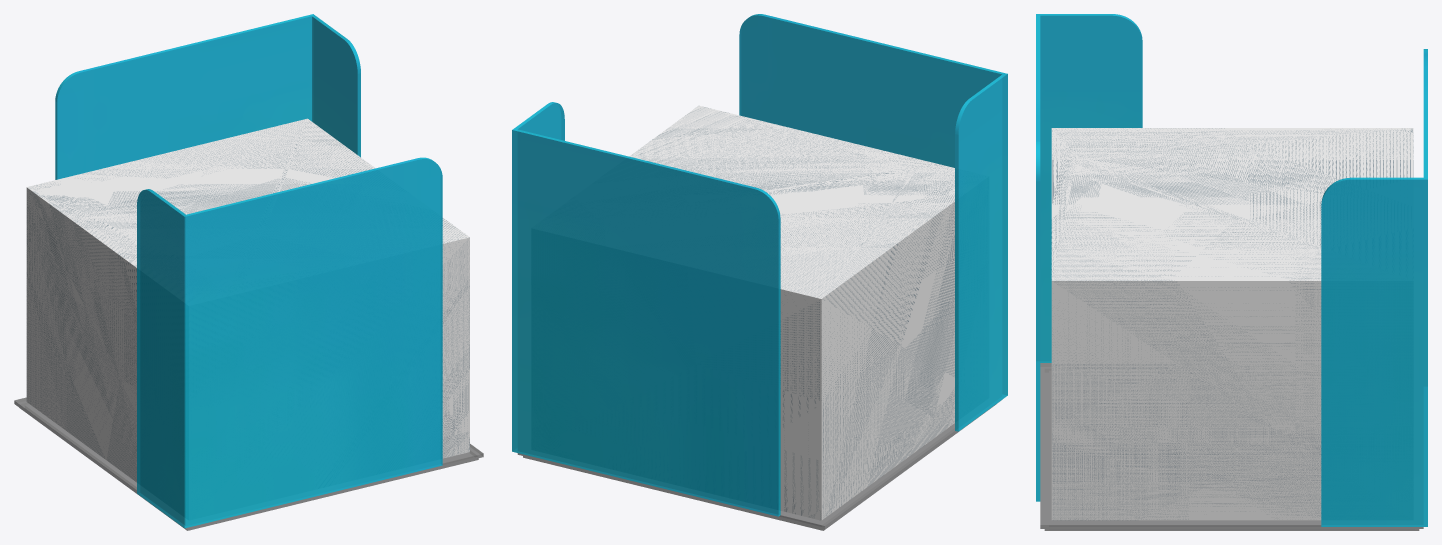
File: MemoOrganizer.dae
The picture shows the model from 3 angles, left to right: view 1: azimuth 30°, elevation 25°; view 2: azimuth 150°, elevation 25°; view 3: azimuth 270°, elevation 25°; orthographic projection. The views are drawn at different scales.
Parts seen in each view (by area): view 1: Component_1 (×2), SketchUp, Component_4 (×3); view 2: Component_1 (×2), SketchUp, Component_4 (×3); view 3: SketchUp, Component_1 (×2), Component_4 (×3).
Boxes of the visible parts, box(x1,y1,x2,y2) form: Component_1 (×2): box(55, 14, 442, 528); SketchUp: box(26, 118, 469, 482); Component_4 (×3): box(14, 397, 483, 530); Component_1 (×2): box(512, 14, 1007, 516); SketchUp: box(629, 105, 954, 520); Component_4 (×3): box(517, 400, 1001, 530); SketchUp: box(1051, 128, 1413, 520); Component_1 (×2): box(1036, 14, 1427, 526); Component_4 (×3): box(1040, 363, 1423, 530).
Size of the model in its own units: 3.62 by 3.62 by 3.62.
Materials: 5 (1 with a texture image).
